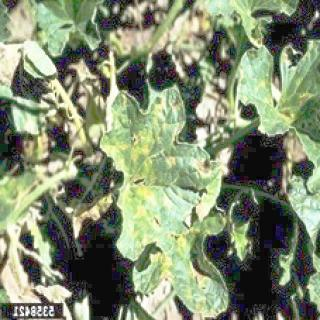leaf spot: (104, 92, 193, 225)
